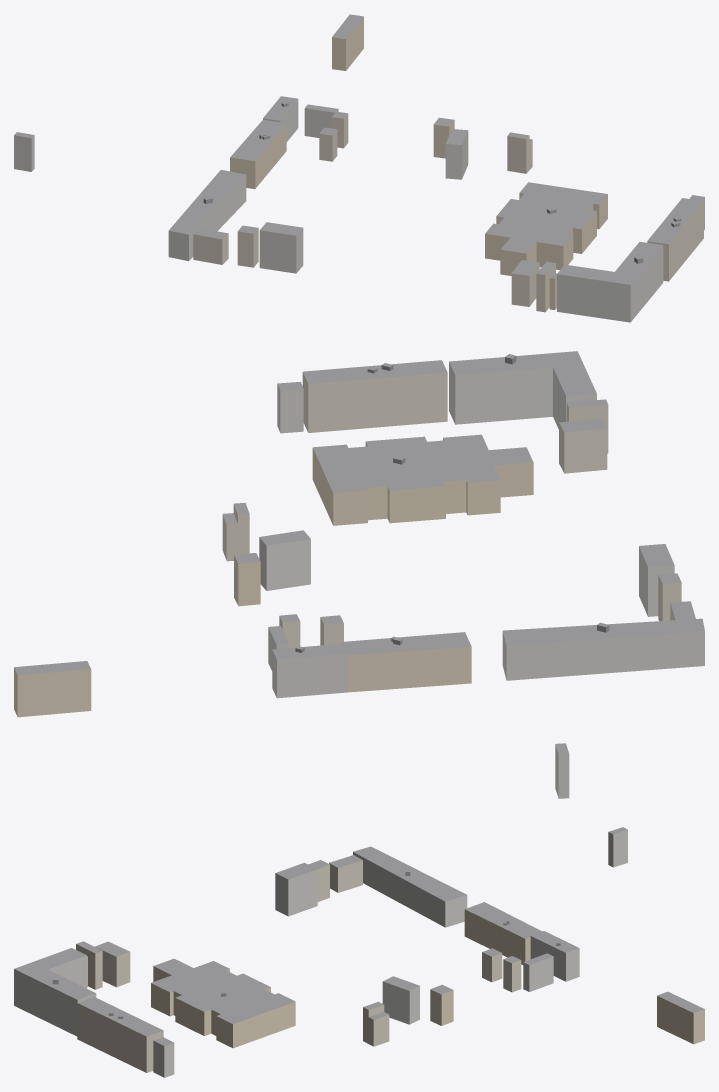
File: building_2_-5.glb
The picture shows the model from 3 angles, top to bottom: view 1: azimuth 30°, elevation 25°; view 2: azimuth 150°, elevation 25°; view 3: azimuth 270°, elevation 25°; orthographic projection. The views are drawn at different scales.
Visible parts, largest first — view 1: roof, concrete_light, concrete_warm, sandstone; view 2: roof, concrete_light, sandstone, concrete_warm; view 3: roof, concrete_light, sandstone, concrete_warm.
Part boxes in pixels (x1,y1,x2,y2): roof: [14, 14, 704, 284]; concrete_light: [14, 99, 704, 322]; concrete_warm: [193, 113, 703, 312]; sandstone: [230, 17, 607, 310]; roof: [14, 351, 704, 754]; concrete_light: [259, 362, 704, 798]; sandstone: [14, 438, 533, 717]; concrete_warm: [222, 372, 695, 647]; roof: [14, 827, 704, 1045]; concrete_light: [14, 830, 627, 1077]; sandstone: [87, 909, 704, 1048]; concrete_warm: [76, 860, 521, 1072].
Size of the model in its own units: 196 by 17.21 by 262.
